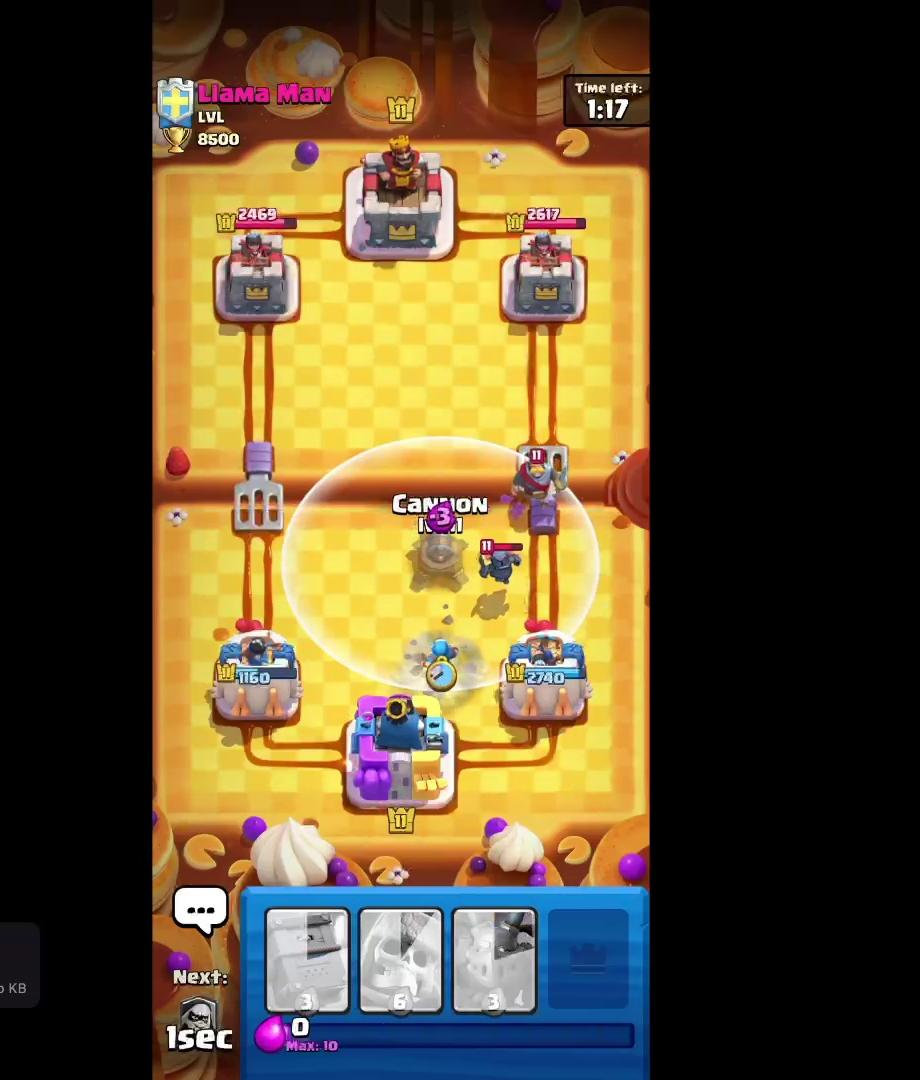Knight: (503, 439, 571, 514)
Mini Pekka: (480, 534, 529, 593)
